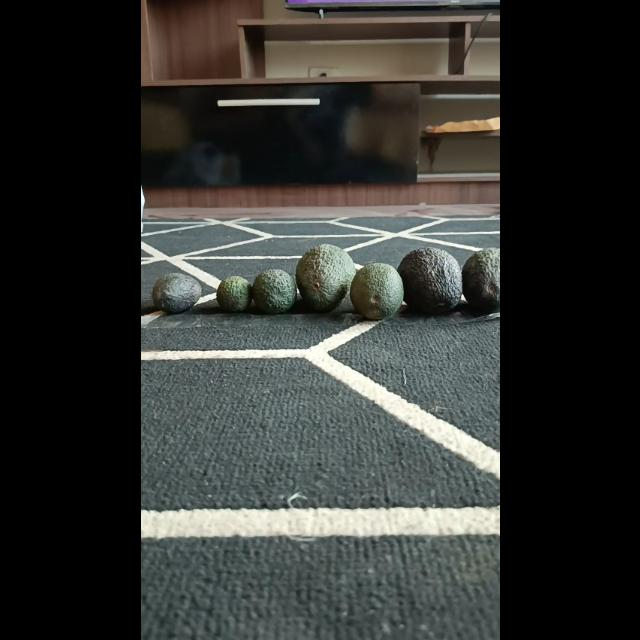Primera: (396, 246, 462, 314), (294, 243, 354, 310), (459, 248, 498, 312)
Segunda: (349, 262, 403, 320)
Tercera: (250, 268, 296, 314), (150, 272, 200, 314), (216, 276, 250, 312)
